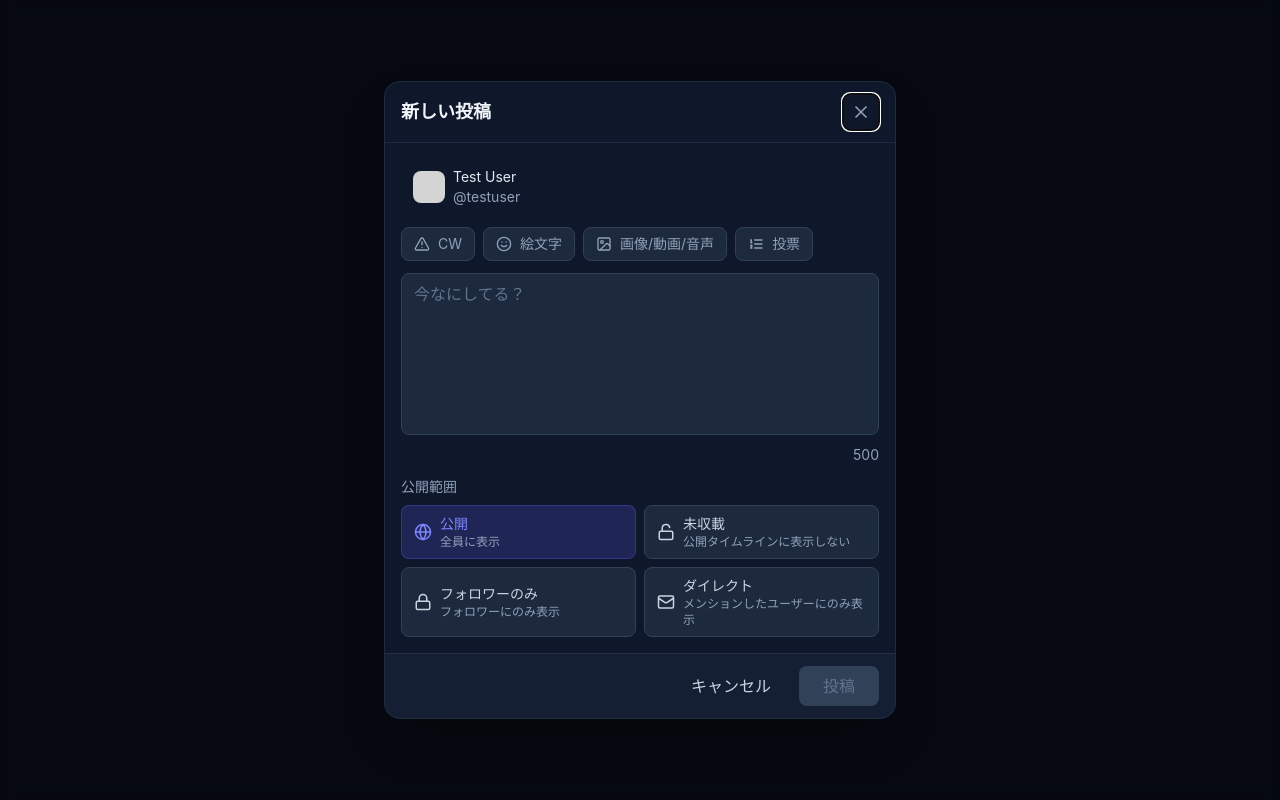
it: ComposeModal › toggles CW input when clicking CW button
Expected: the field with placeholder "警告文を入力..." is not shown
Note: Click CW button
Click the button "CW" at (438, 244), box [401,227,475,261]
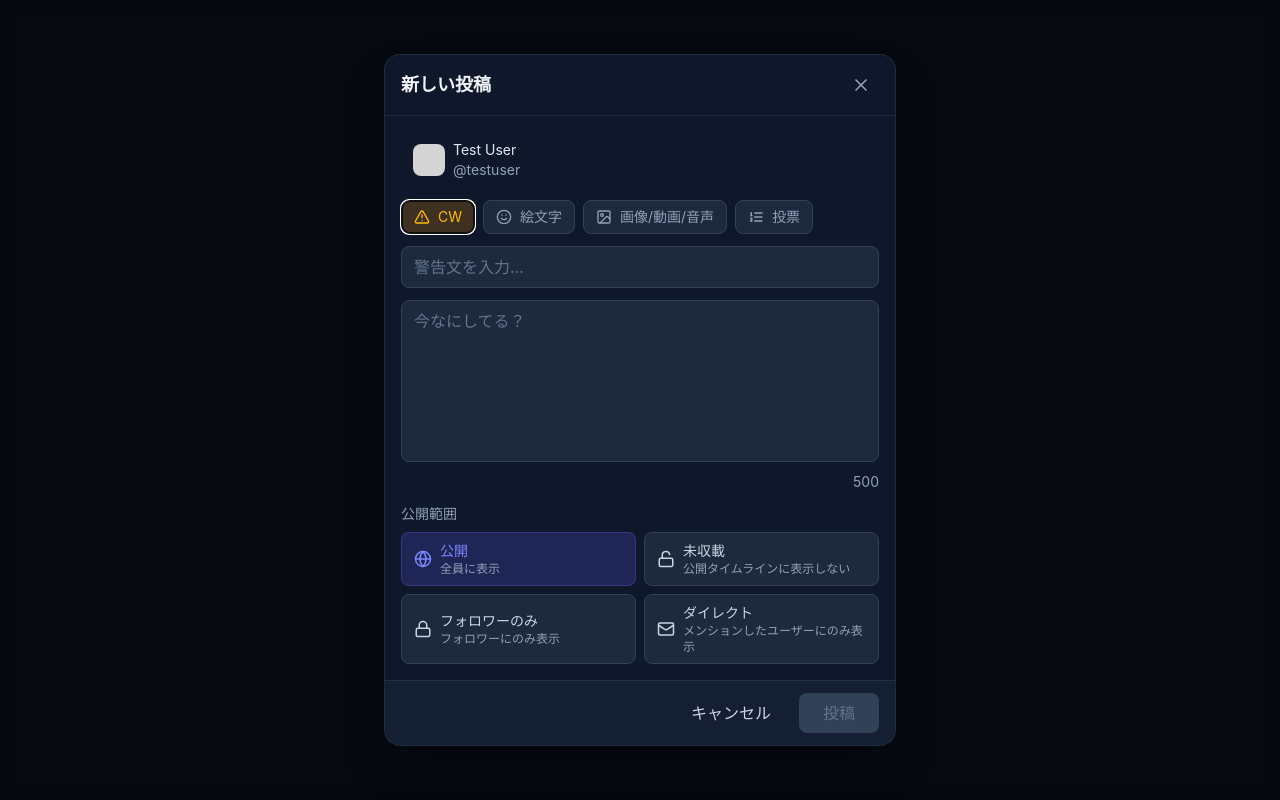
Result: the field with placeholder "警告文を入力..." is shown at [401,246,879,288]
